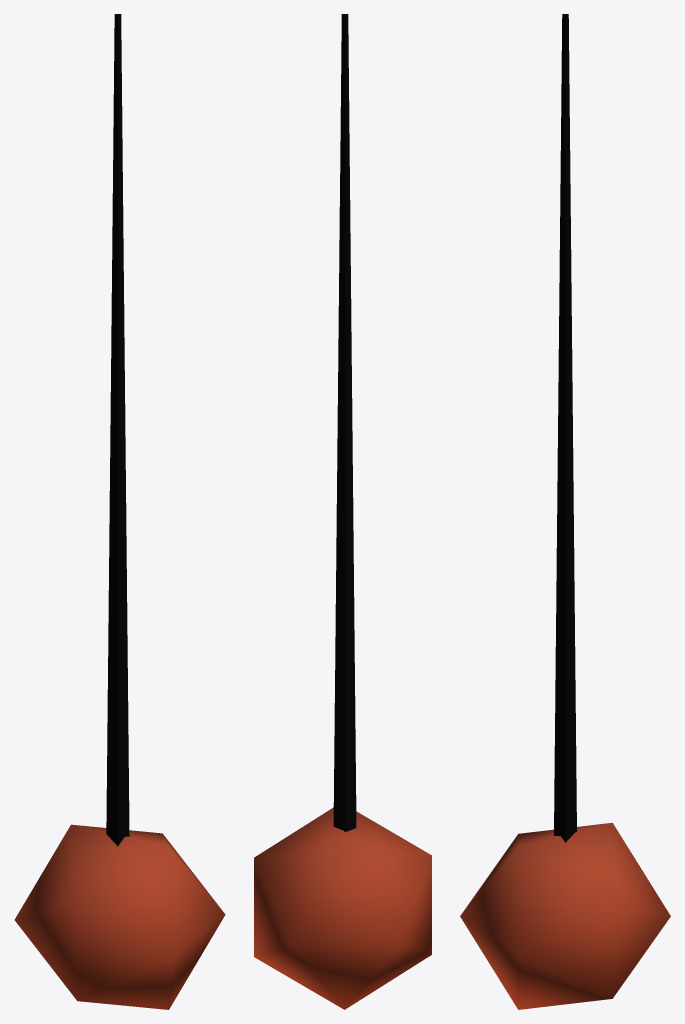
File: LampSphere_Red.fbx
The picture shows the model from 3 angles, left to right: view 1: azimuth 30°, elevation 25°; view 2: azimuth 150°, elevation 25°; view 3: azimuth 270°, elevation 25°; orthographic projection.
Parts seen in each view (by area): view 1: LampSphere_Red; view 2: LampSphere_Red; view 3: LampSphere_Red.
Boxes of the visible parts, x1,y1,x2,y2 form: LampSphere_Red: [14, 14, 225, 1009]; LampSphere_Red: [254, 14, 431, 1009]; LampSphere_Red: [460, 14, 670, 1009].
Bounding box in the file's own units: 21.11 × 121 × 23.61.
